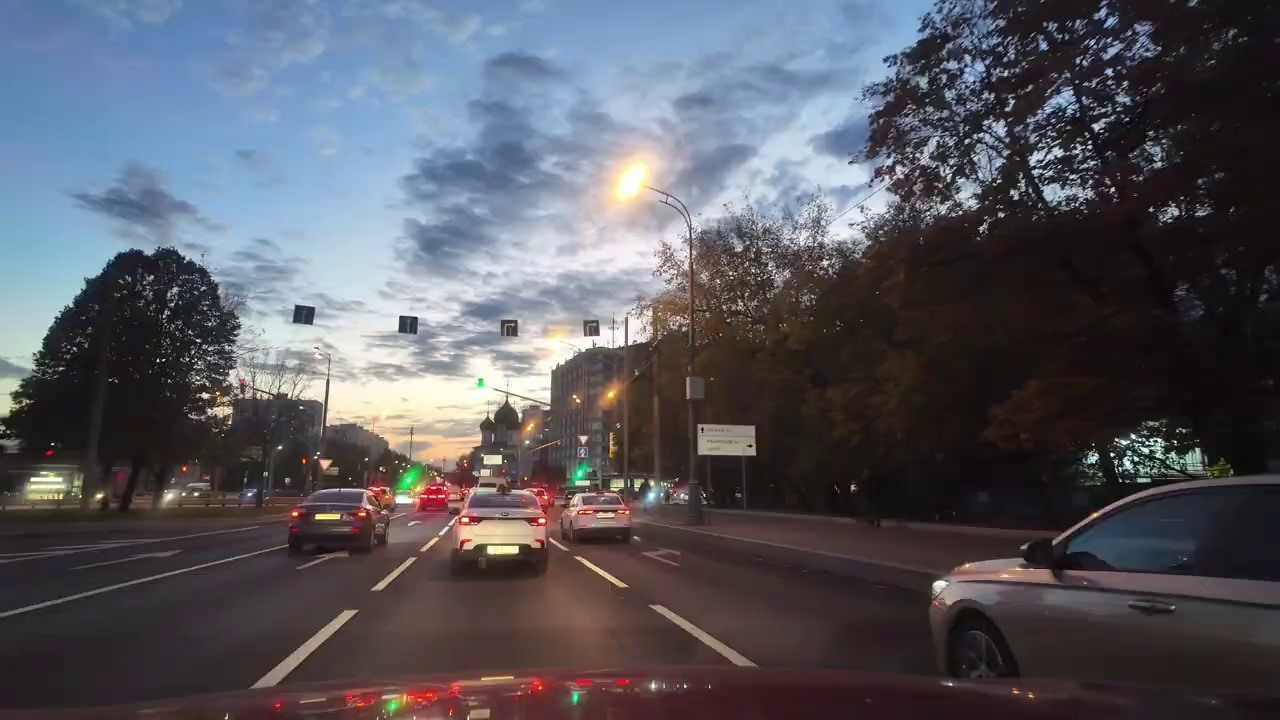acesa: (607, 159, 655, 207)
